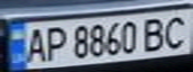0: (118, 18, 142, 55)
6: (103, 19, 127, 56)
8: (87, 21, 109, 59), (69, 22, 90, 60)
A: (21, 25, 48, 64)
B: (139, 15, 172, 53)
C: (160, 12, 193, 50)
P: (39, 24, 69, 62)
